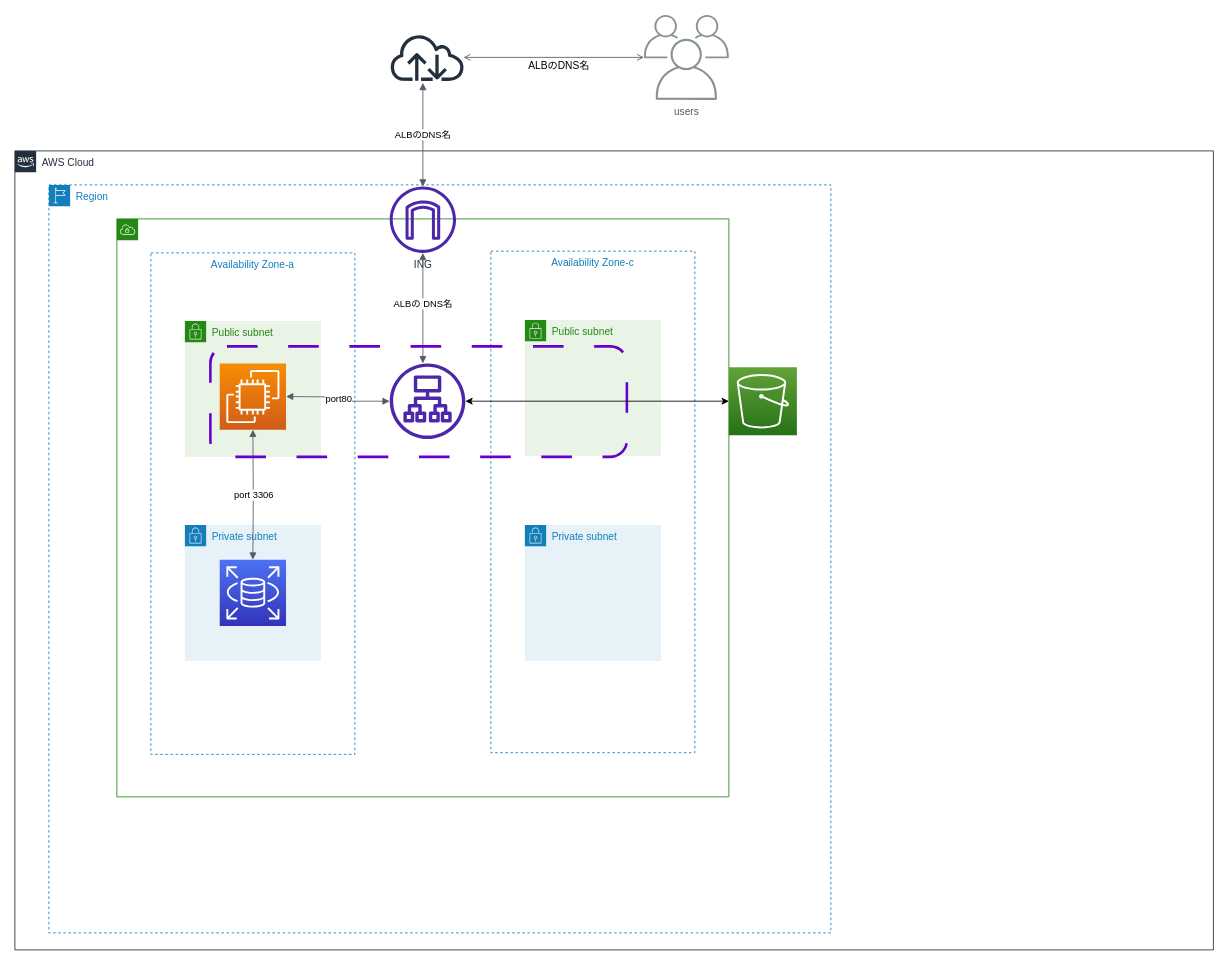
This 1228x965 diagram has some shape labels left out. The centre of each missing label's shape, as x and y in pixels:
ALB: point (427, 401)
EC2 Rails nginx uncorn: point (252, 396)
internet: point (426, 56)
RDS(MYSQL): point (252, 592)
